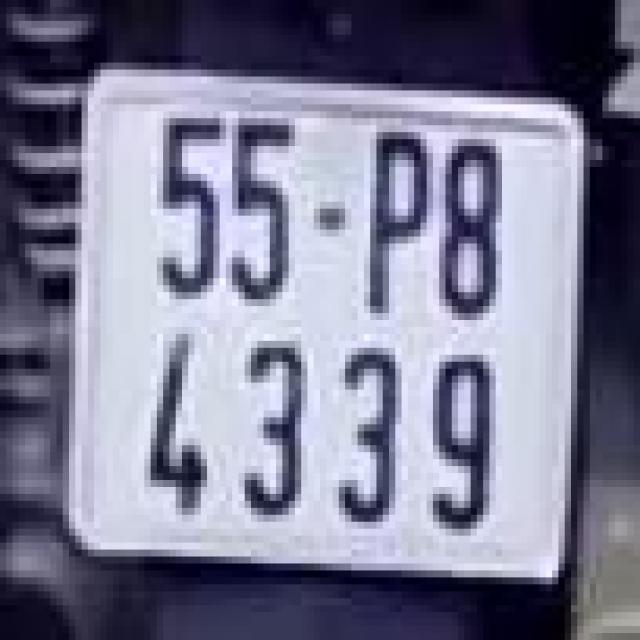3: (235, 327, 311, 529), (329, 331, 405, 532)
4: (132, 320, 213, 522)
5: (150, 108, 226, 323), (226, 111, 301, 306)
8: (436, 122, 505, 330)
9: (417, 344, 505, 539)
P: (364, 104, 439, 327)
